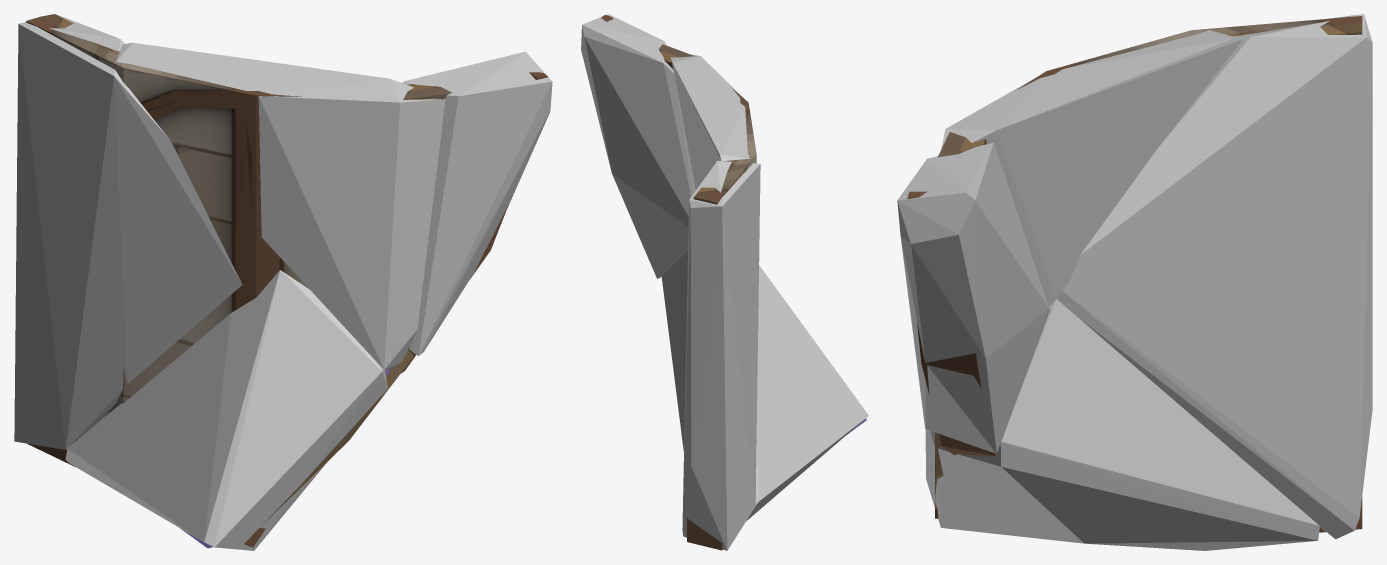
File: SM_Bld_Roof_Concave_Tower_02.fbx
3 renders of one model, left to right at view 1: azimuth 30°, elevation 25°; view 2: azimuth 150°, elevation 25°; view 3: azimuth 270°, elevation 25°, orthographic. The views are drawn at different scales.
Visible parts, largest first — view 1: SM_Bld_Roof_Concave_Tower_02_ConvexHulls, SM_Bld_Roof_Concave_Tower_02; view 2: SM_Bld_Roof_Concave_Tower_02_ConvexHulls, SM_Bld_Roof_Concave_Tower_02; view 3: SM_Bld_Roof_Concave_Tower_02_ConvexHulls, SM_Bld_Roof_Concave_Tower_02.
Part boxes in pixels (bbox=[...]): SM_Bld_Roof_Concave_Tower_02_ConvexHulls: bbox=[14, 14, 552, 550]; SM_Bld_Roof_Concave_Tower_02: bbox=[26, 14, 547, 548]; SM_Bld_Roof_Concave_Tower_02_ConvexHulls: bbox=[581, 14, 868, 550]; SM_Bld_Roof_Concave_Tower_02: bbox=[601, 15, 866, 550]; SM_Bld_Roof_Concave_Tower_02_ConvexHulls: bbox=[897, 14, 1372, 550]; SM_Bld_Roof_Concave_Tower_02: bbox=[907, 16, 1362, 532].
Bounding box in the file's own units: 277 × 278 × 331.
5 materials, 4 textured.
